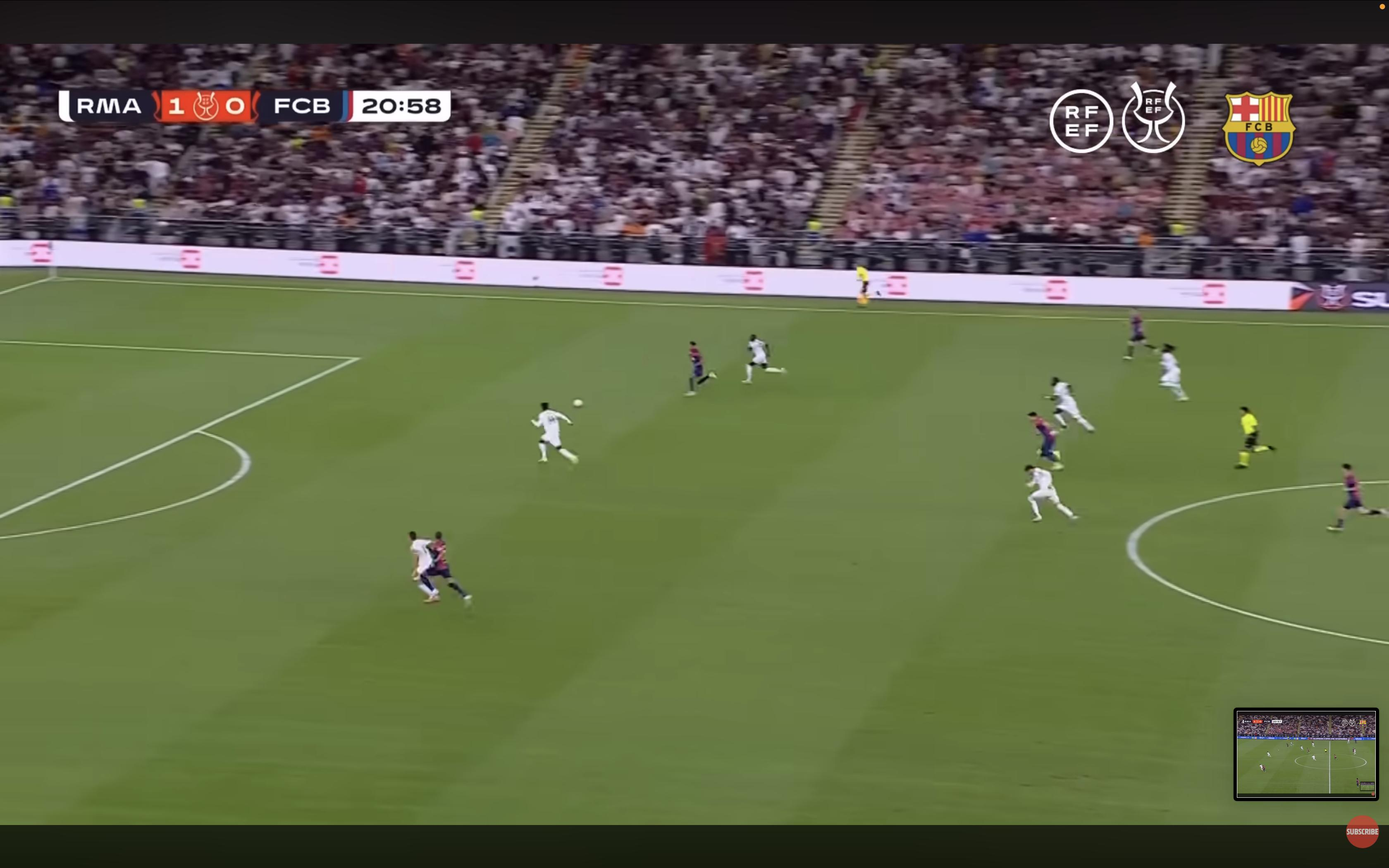ball: (573, 398, 583, 407)
player: (1326, 463, 1389, 533), (427, 532, 471, 606), (1025, 464, 1078, 522), (532, 403, 578, 463), (1048, 377, 1093, 432), (408, 531, 438, 603), (743, 334, 785, 383), (1027, 413, 1063, 470), (1124, 309, 1157, 360), (1160, 344, 1189, 401), (686, 341, 716, 396)
referee: (1236, 407, 1275, 469), (855, 266, 869, 306)
